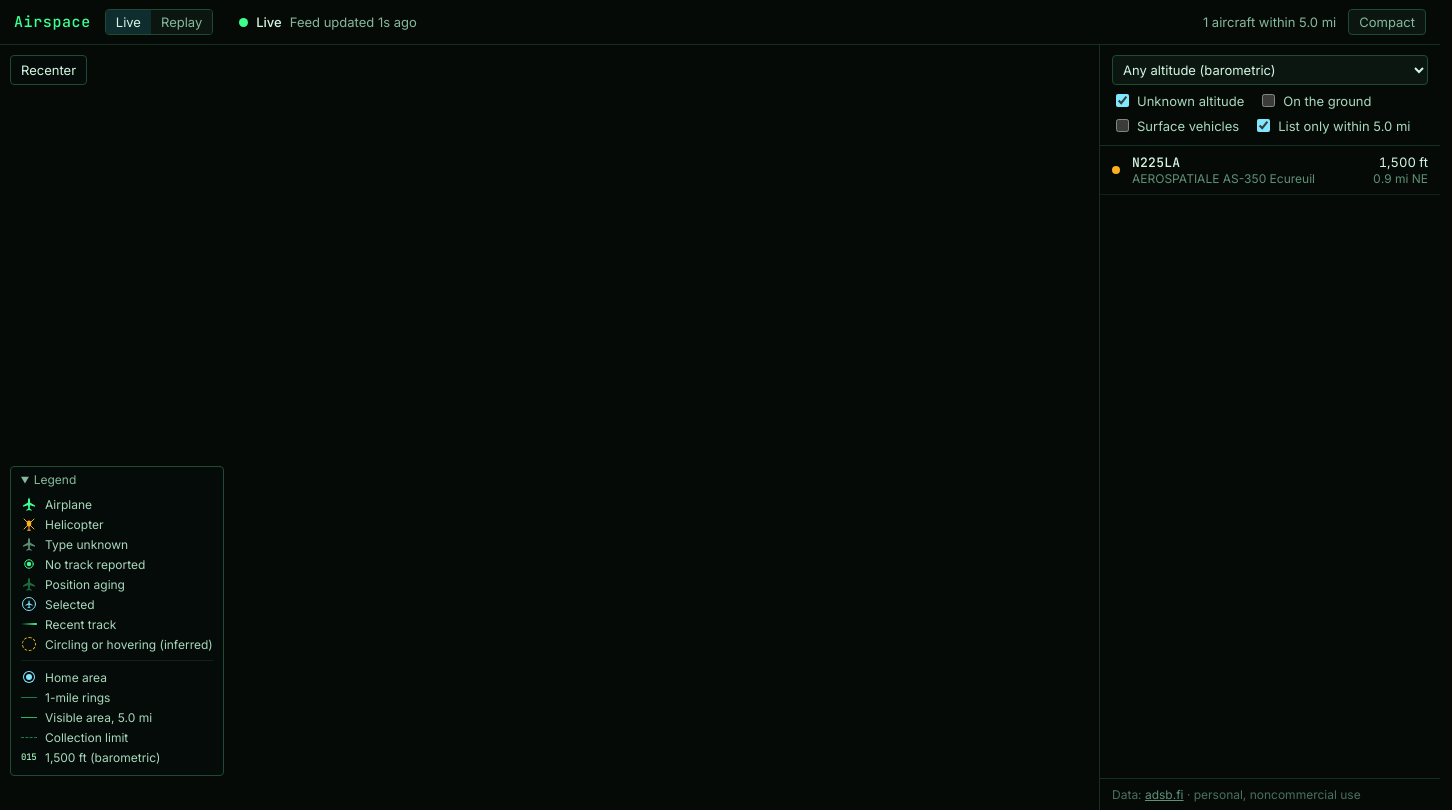
Operators › unidentified aircraft say so
Click the button "N225LA AEROSPATIALE AS-350 Ecureuil 1,500 ft 0.9 mi NE".
click(1270, 170)  # box [1100,146,1440,195]
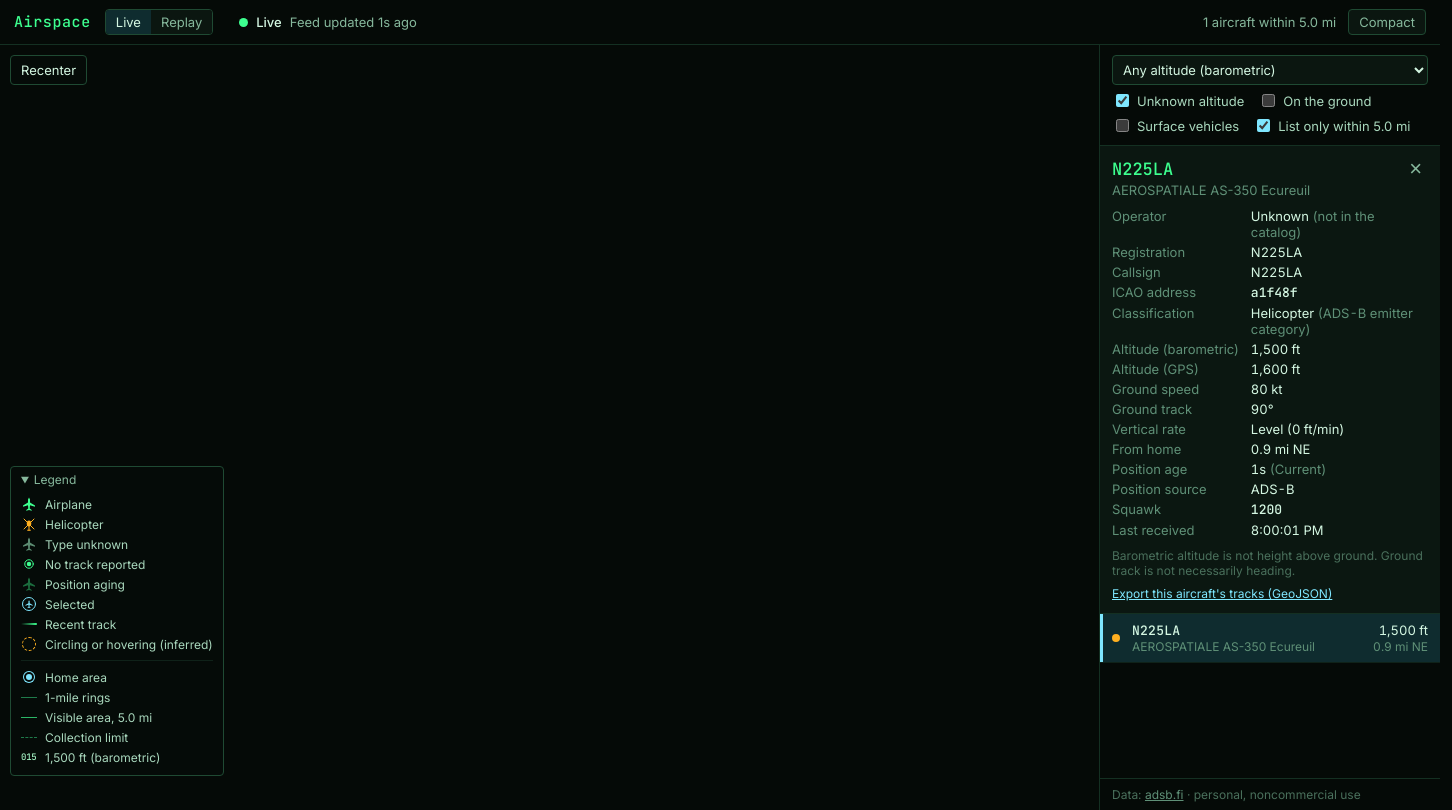
Check: the element with test id "operator" reads "Unknown (not in the catalog)", box [1251,208,1375,240]
